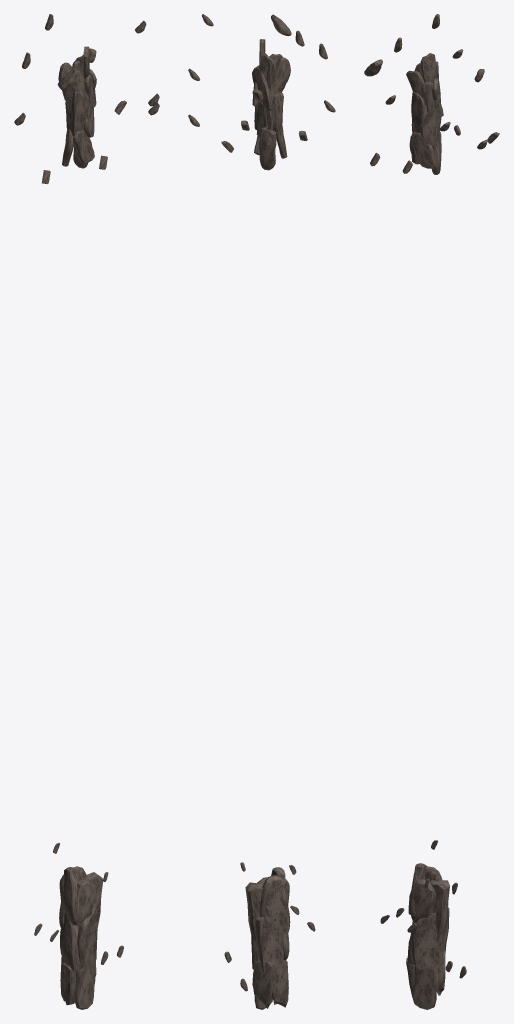
Rendered from IronSpearRock.FBX.
3 views of the same model, side by side, from view 1: azimuth 30°, elevation 25°; view 2: azimuth 210°, elevation 25°; view 3: azimuth 330°, elevation 25° (orthographic).
Visible parts, largest first — view 1: iron Rock; view 2: iron Rock; view 3: iron Rock.
Boxes of the visible parts, x1,y1,x2,y2 form: iron Rock: (14, 14, 159, 1009); iron Rock: (188, 14, 335, 1009); iron Rock: (364, 14, 499, 1009).
Bounding box in the file's own units: 1.78 × 13.69 × 1.36.
